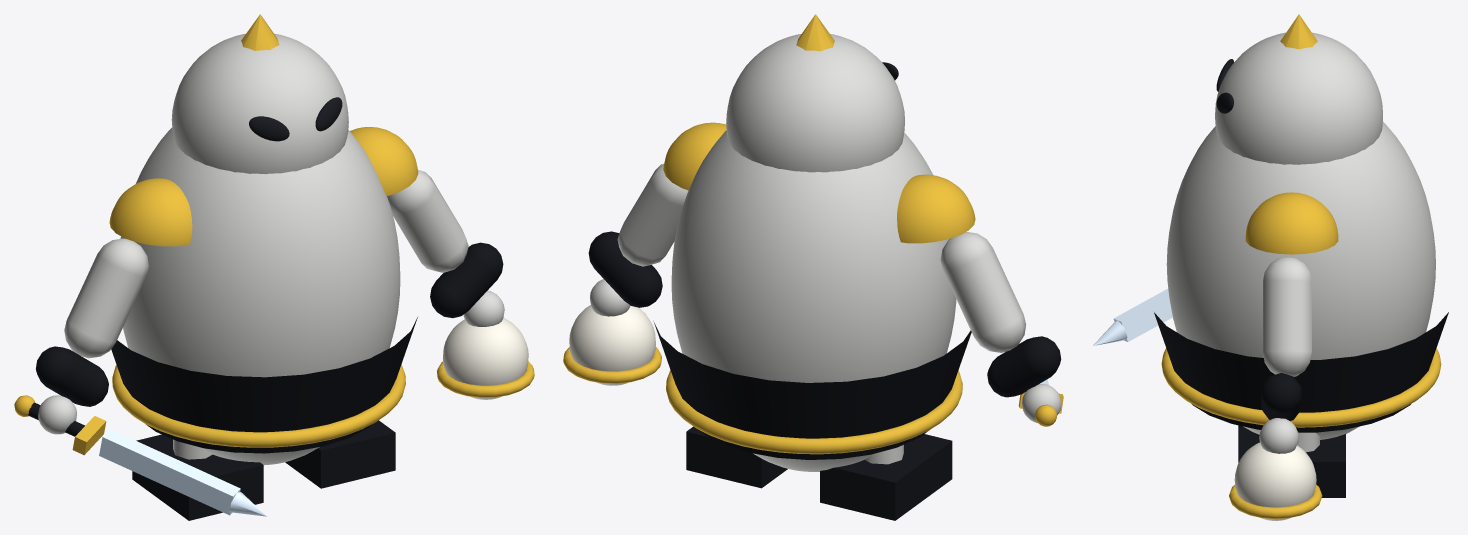
File: mochiGeneral.glb
The picture shows the model from 3 angles, left to right: view 1: azimuth 30°, elevation 25°; view 2: azimuth 150°, elevation 25°; view 3: azimuth 270°, elevation 25°; orthographic projection. The views are drawn at different scales.
Visible parts, largest first — view 1: body, head, cape, leftUpperArm, armorBottomRim, rightUpperArm, mochiCore, leftPauldron, swordBlade, footRight, footLeft, rightForeArm (+9 smaller); view 2: body, head, cape, footLeft, leftUpperArm, armorBottomRim, mochiCore, leftPauldron, rightUpperArm, footRight, leftForeArm, rightForeArm (+5 smaller); view 3: body, head, cape, rightUpperArm, rightPauldron, armorBottomRim, mochiCore, footRight, rightForeArm, swordBlade, mochiWrap, rightHand (+2 smaller).
Part boxes in pixels (box(x1,y1,x2,y2)): body: box(120, 127, 400, 465); head: box(171, 33, 348, 174); cape: box(111, 317, 417, 453); leftUpperArm: box(64, 238, 148, 358); armorBottomRim: box(112, 364, 405, 447); rightUpperArm: box(387, 170, 468, 272); mochiCore: box(443, 318, 528, 399); leftPauldron: box(109, 178, 192, 246); swordBlade: box(99, 429, 240, 515); footRight: box(285, 420, 395, 488); footLeft: box(132, 434, 263, 520); rightForeArm: box(430, 242, 503, 318); body: box(671, 130, 956, 471); head: box(726, 34, 904, 172); cape: box(653, 321, 971, 459); footLeft: box(820, 434, 952, 520); leftUpperArm: box(940, 232, 1026, 352); armorBottomRim: box(666, 370, 962, 454); mochiCore: box(569, 305, 655, 385); leftPauldron: box(897, 174, 975, 243); rightUpperArm: box(617, 164, 688, 266); footRight: box(686, 426, 787, 488); leftForeArm: box(987, 336, 1061, 397); rightForeArm: box(588, 231, 662, 307); body: box(1166, 122, 1435, 439); head: box(1215, 32, 1382, 164); cape: box(1154, 312, 1448, 432); rightUpperArm: box(1263, 256, 1311, 376); rightPauldron: box(1245, 192, 1338, 254); armorBottomRim: box(1161, 348, 1441, 427); mochiCore: box(1234, 442, 1316, 520); footRight: box(1238, 427, 1345, 497); rightForeArm: box(1261, 373, 1301, 420); swordBlade: box(1113, 288, 1172, 341); mochiWrap: box(1229, 485, 1322, 518); rightHand: box(1259, 418, 1298, 453).
Size of the model in its own units: 4.66 by 4.11 by 3.09.
